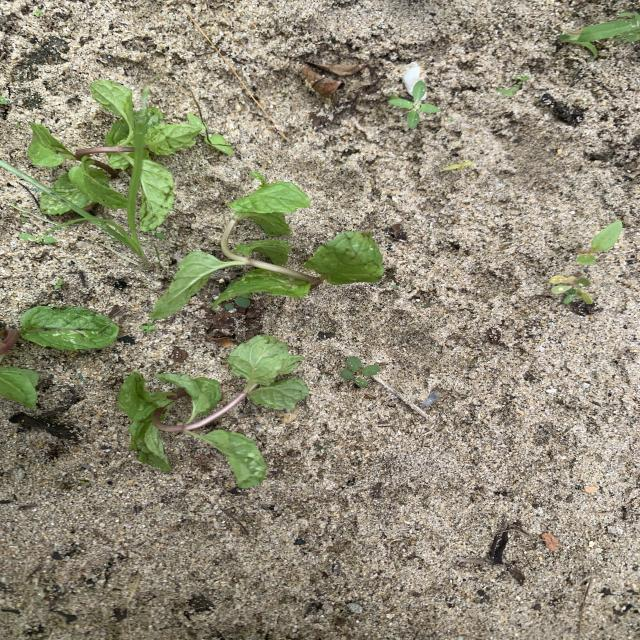crop: (154, 172, 382, 317), (118, 335, 307, 487), (28, 80, 204, 231), (0, 306, 119, 408)
weed: (61, 159, 147, 264), (559, 12, 639, 56), (390, 81, 439, 126), (576, 221, 620, 263), (188, 113, 232, 154), (340, 356, 379, 387), (549, 276, 592, 303), (497, 75, 529, 95), (223, 296, 250, 311), (18, 233, 55, 243), (443, 161, 473, 170), (139, 322, 155, 331), (53, 280, 63, 289)
